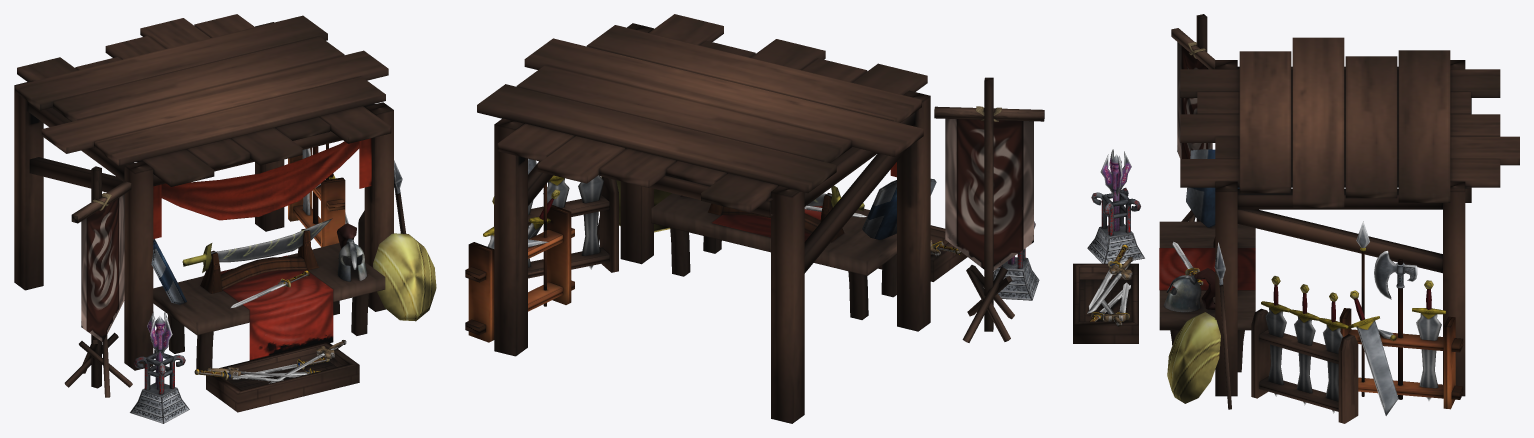
Rendered from stall_warrior_atlas.fbx.
The picture shows the model from 3 angles, left to right: view 1: azimuth 30°, elevation 25°; view 2: azimuth 150°, elevation 25°; view 3: azimuth 270°, elevation 25°; orthographic projection. The views are drawn at different scales.
Visible parts, largest first — view 1: Shop_frame, Front_table, Banner, Sword_crate, Front_table.002, Weapons_rack2, Mace_stand, Front_table.005, Front_table.004, Front_table.001, Front_table.003, Mace_stand.001 (+2 smaller); view 2: Shop_frame, Banner, Front_table, Weapons_rack2, Sword_rack, Front_table.003, Mace_stand, Sword_crate, Front_table.005; view 3: Shop_frame, Weapons_rack2, Sword_rack, Front_table, Sword_crate, Front_table.002, Banner, Mace_stand, Front_table.001, Front_table.003, Mace_stand.001, Front_table.006.
Boxes of the visible parts, x1,y1,x2,y2 form: Shop_frame: (14,14,393,370); Front_table: (153,243,385,370); Banner: (64,166,132,397); Sword_crate: (194,340,359,412); Front_table.002: (373,233,436,321); Weapons_rack2: (288,143,348,247); Mace_stand: (130,350,189,423); Front_table.005: (200,228,318,293); Front_table.004: (182,218,332,272); Front_table.001: (337,223,366,281); Front_table.003: (151,239,186,304); Mace_stand.001: (147,311,172,389); Shop_frame: (477,14,930,423); Banner: (934,77,1044,342); Front_table: (651,193,896,319); Weapons_rack2: (465,158,574,342); Sword_rack: (494,175,618,278); Front_table.003: (862,178,936,239); Mace_stand: (993,221,1039,300); Sword_crate: (878,225,967,281); Front_table.005: (708,193,844,242); Shop_frame: (1180,37,1519,396); Weapons_rack2: (1339,221,1463,415); Sword_rack: (1251,276,1358,423); Front_table: (1159,221,1255,372); Sword_crate: (1073,244,1138,343); Front_table.002: (1167,312,1220,403); Banner: (1171,14,1215,221); Mace_stand: (1087,187,1144,263); Front_table.001: (1163,268,1215,312); Front_table.003: (1186,149,1239,227); Mace_stand.001: (1100,149,1131,231); Front_table.006: (1214,242,1231,409).
Bounding box in the file's own units: 6.31 × 3.3 × 5.9.
